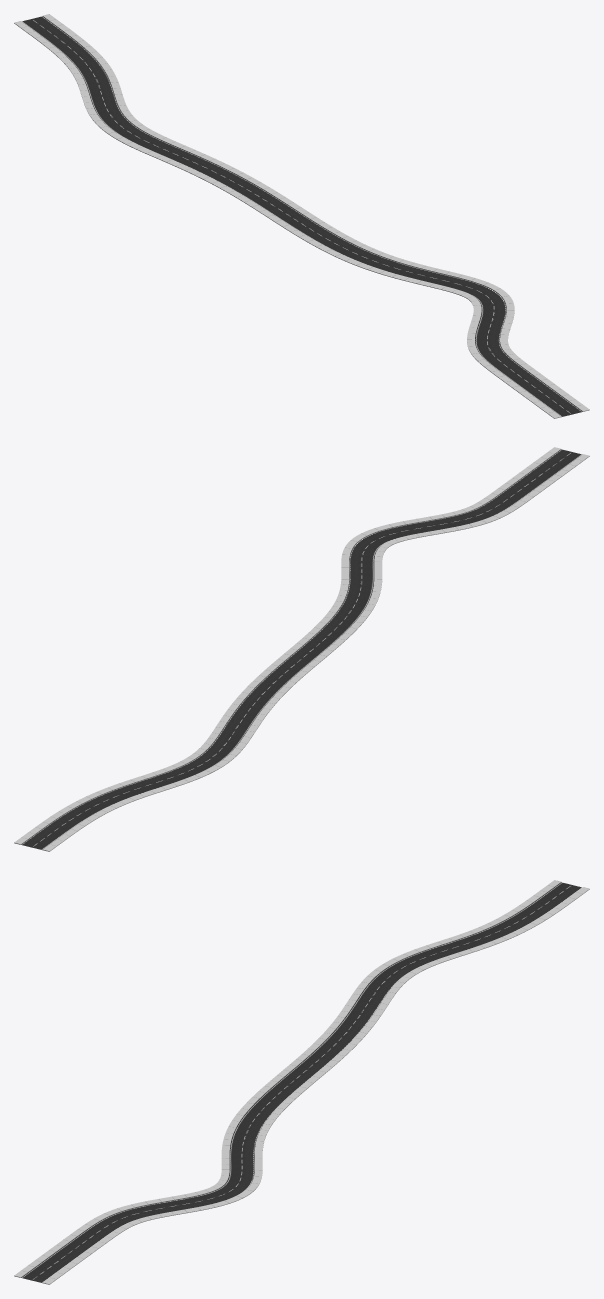
Rendered from Road-2.fbx.
3 renders of one model, top to bottom at view 1: azimuth 30°, elevation 25°; view 2: azimuth 150°, elevation 25°; view 3: azimuth 330°, elevation 25°, orthographic.
Visible parts, largest first — view 1: MainRoad, RoadSide; view 2: MainRoad, RoadSide; view 3: MainRoad, RoadSide.
Part boxes in pixels (<box>): MainRoad: <box>22,16,582,416</box>; RoadSide: <box>14,14,589,418</box>; MainRoad: <box>21,449,582,849</box>; RoadSide: <box>14,447,589,851</box>; MainRoad: <box>21,882,581,1282</box>; RoadSide: <box>14,880,589,1284</box>.
Size of the model in its own units: 671 by 2.6 by 4613.
1 material, 1 textured.
